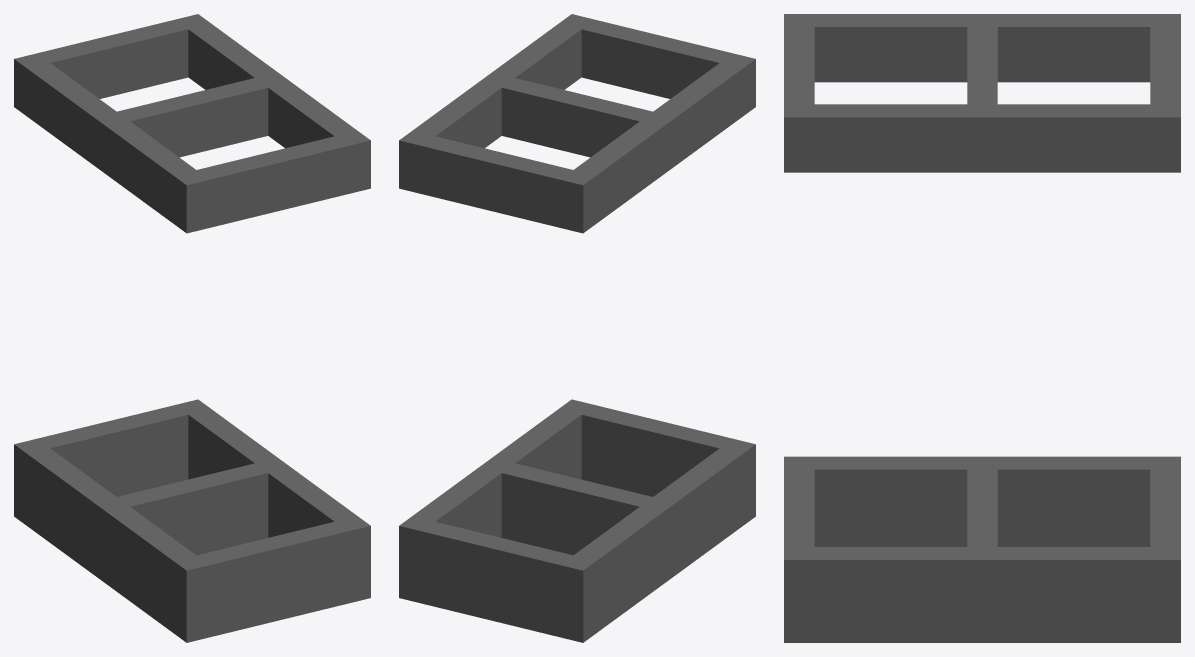
File: Medieval Assets-169-Goblin Village - Wall Binder.obj
The picture shows the model from 3 angles, left to right: view 1: azimuth 30°, elevation 25°; view 2: azimuth 150°, elevation 25°; view 3: azimuth 270°, elevation 25°; orthographic projection. The views are drawn at different scales.
Visible parts, largest first — view 1: Goblin Village - Wall Binder; view 2: Goblin Village - Wall Binder; view 3: Goblin Village - Wall Binder.
Part boxes in pixels (bbox=[...]): Goblin Village - Wall Binder: bbox=[14, 14, 370, 642]; Goblin Village - Wall Binder: bbox=[399, 14, 755, 642]; Goblin Village - Wall Binder: bbox=[784, 14, 1180, 642].
Size of the model in its own units: 0.8 by 1.9 by 1.3.
1 material, 1 textured.
